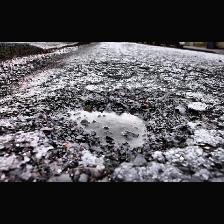pothole: (40, 86, 196, 158)
